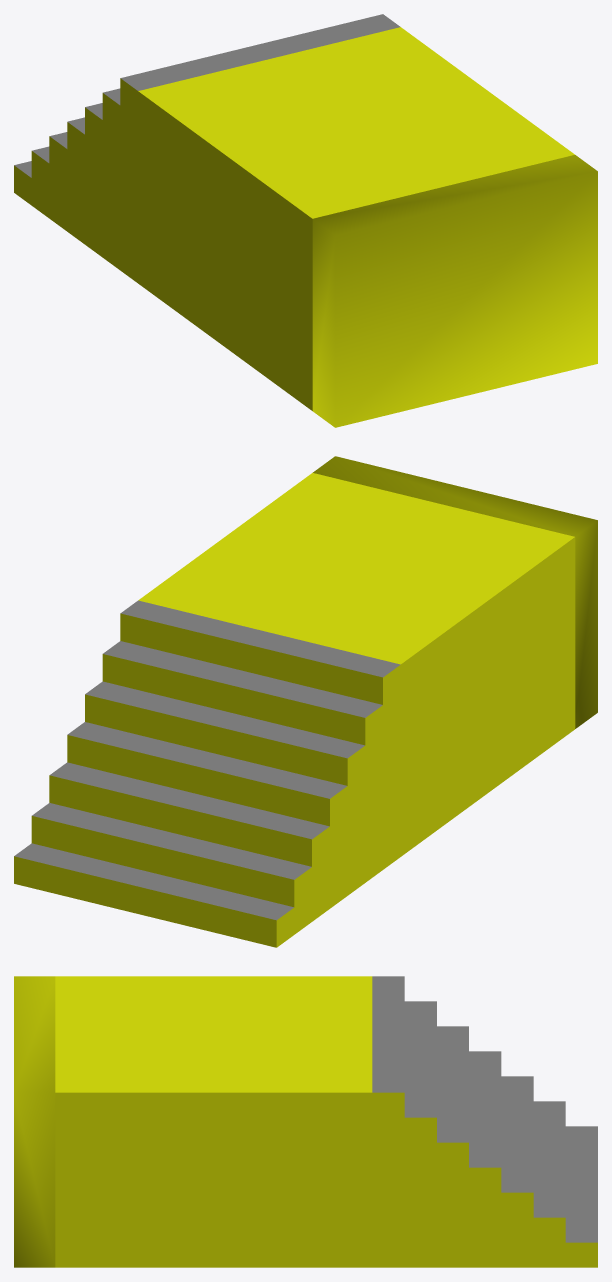
The model's file is Problem_1.glb.
3 views of the same model, one above another, from view 1: azimuth 30°, elevation 25°; view 2: azimuth 150°, elevation 25°; view 3: azimuth 270°, elevation 25° (orthographic). The views are drawn at different scales.
Parts seen in each view (by area): view 1: Cube001, Cube001_1; view 2: Cube001, Cube001_1; view 3: Cube001, Cube001_1.
Part boxes in pixels (x1=…): Cube001: x1=14, y1=27, x2=597, y2=427; Cube001_1: x1=14, y1=14, x2=400, y2=177; Cube001: x1=14, y1=456, x2=597, y2=947; Cube001_1: x1=14, y1=600, x2=400, y2=920; Cube001: x1=14, y1=976, x2=597, y2=1267; Cube001_1: x1=372, y1=976, x2=597, y2=1242.
Size of the model in its own units: 2 by 1.4 by 4.24.
